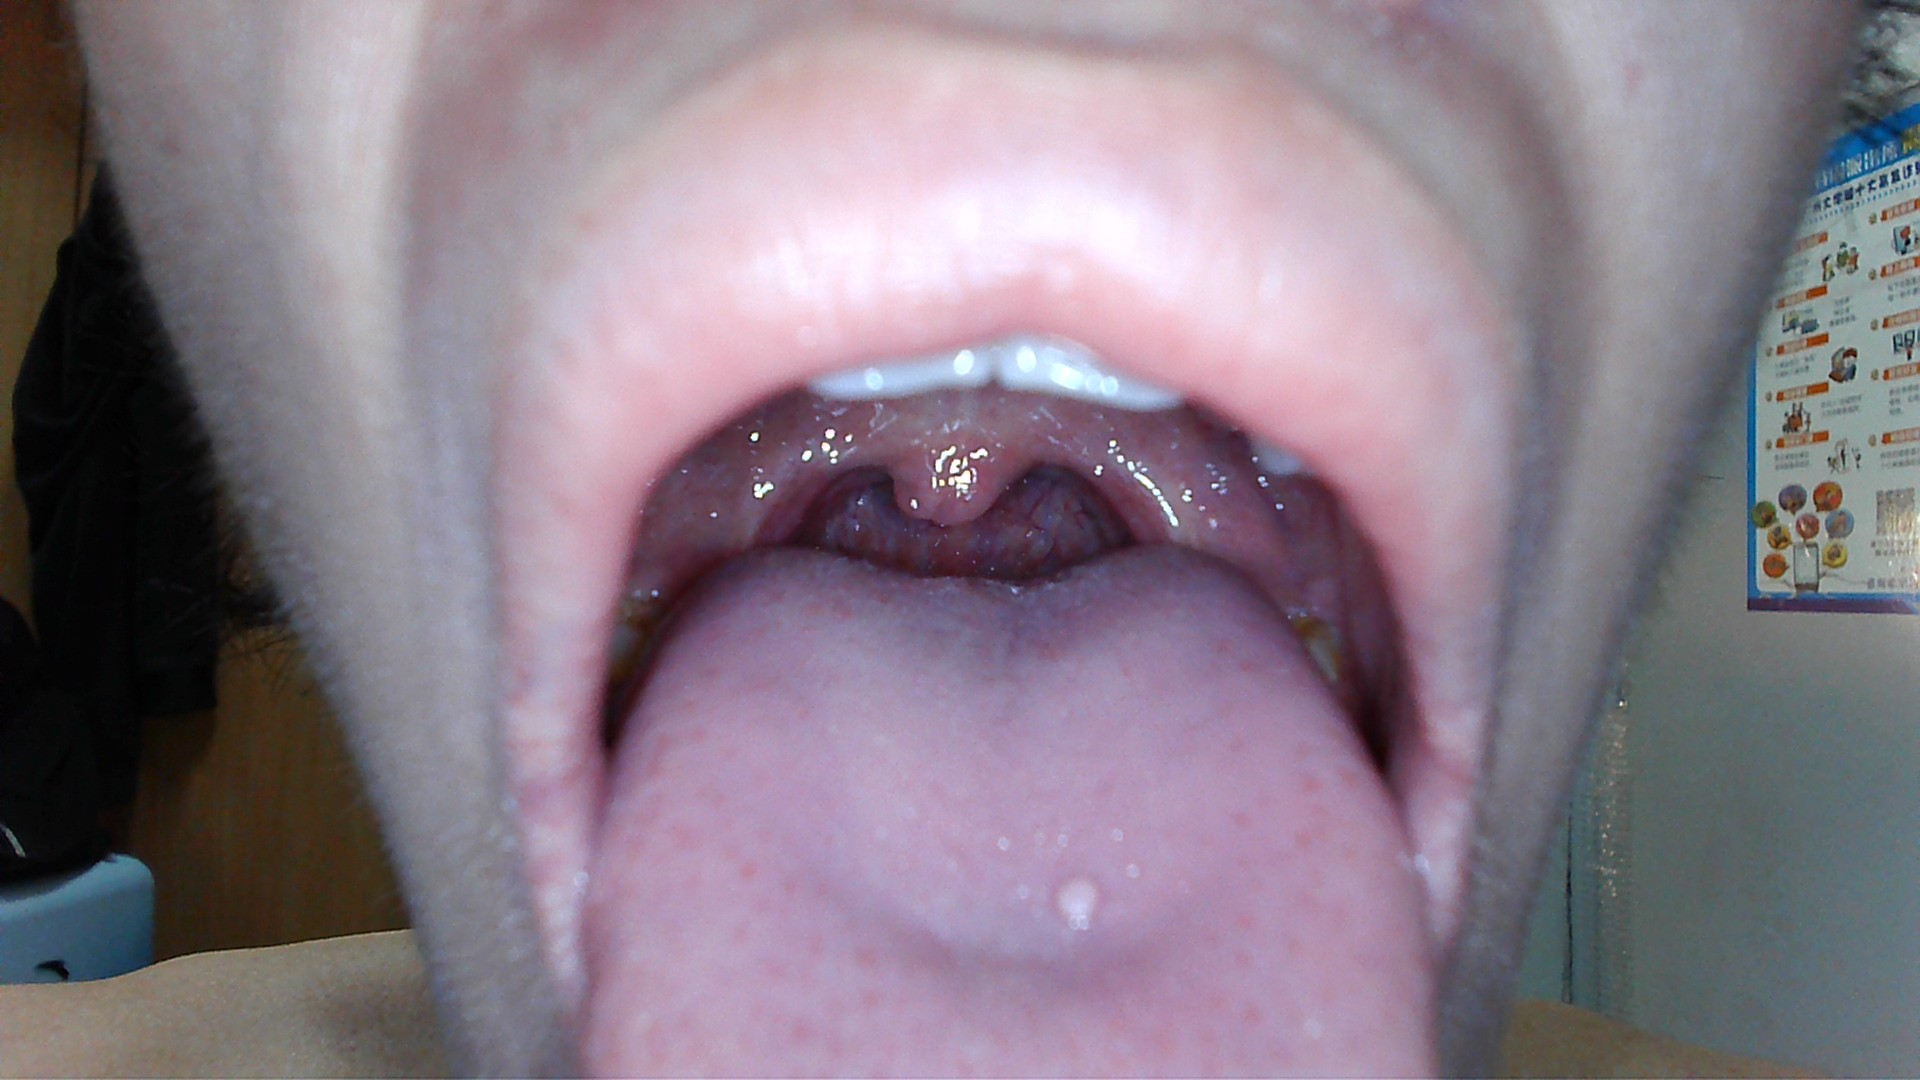throat: (1073, 433, 1174, 545), (746, 444, 847, 545)
